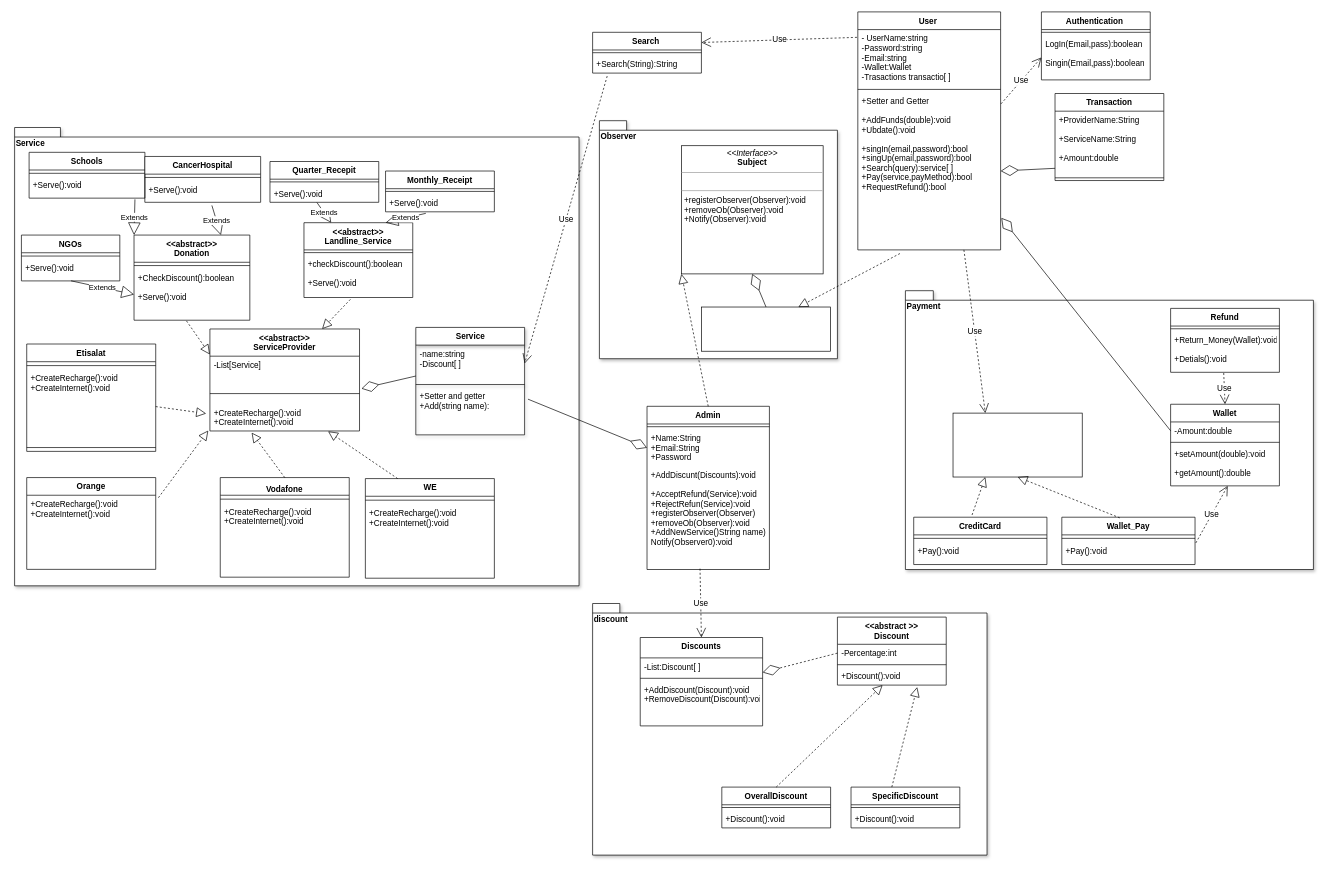
Some shapes in this 1329 by 872 pixel diagram are drawn without their labels. Each missing label, with the centre of its shape:
"<<Interface>> Observer +Update():void" belongs at point (766, 328).
"<<Interface>> Paymen +Pay():void" belongs at point (1017, 444).
